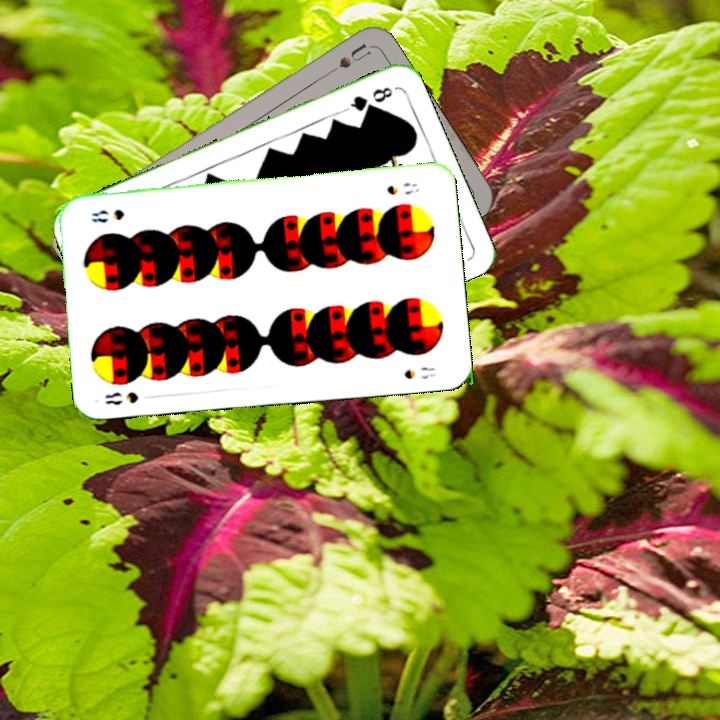G8: (342, 82, 396, 114)
S8: (101, 387, 141, 408), (382, 178, 422, 198)
SU: (335, 39, 373, 71)
